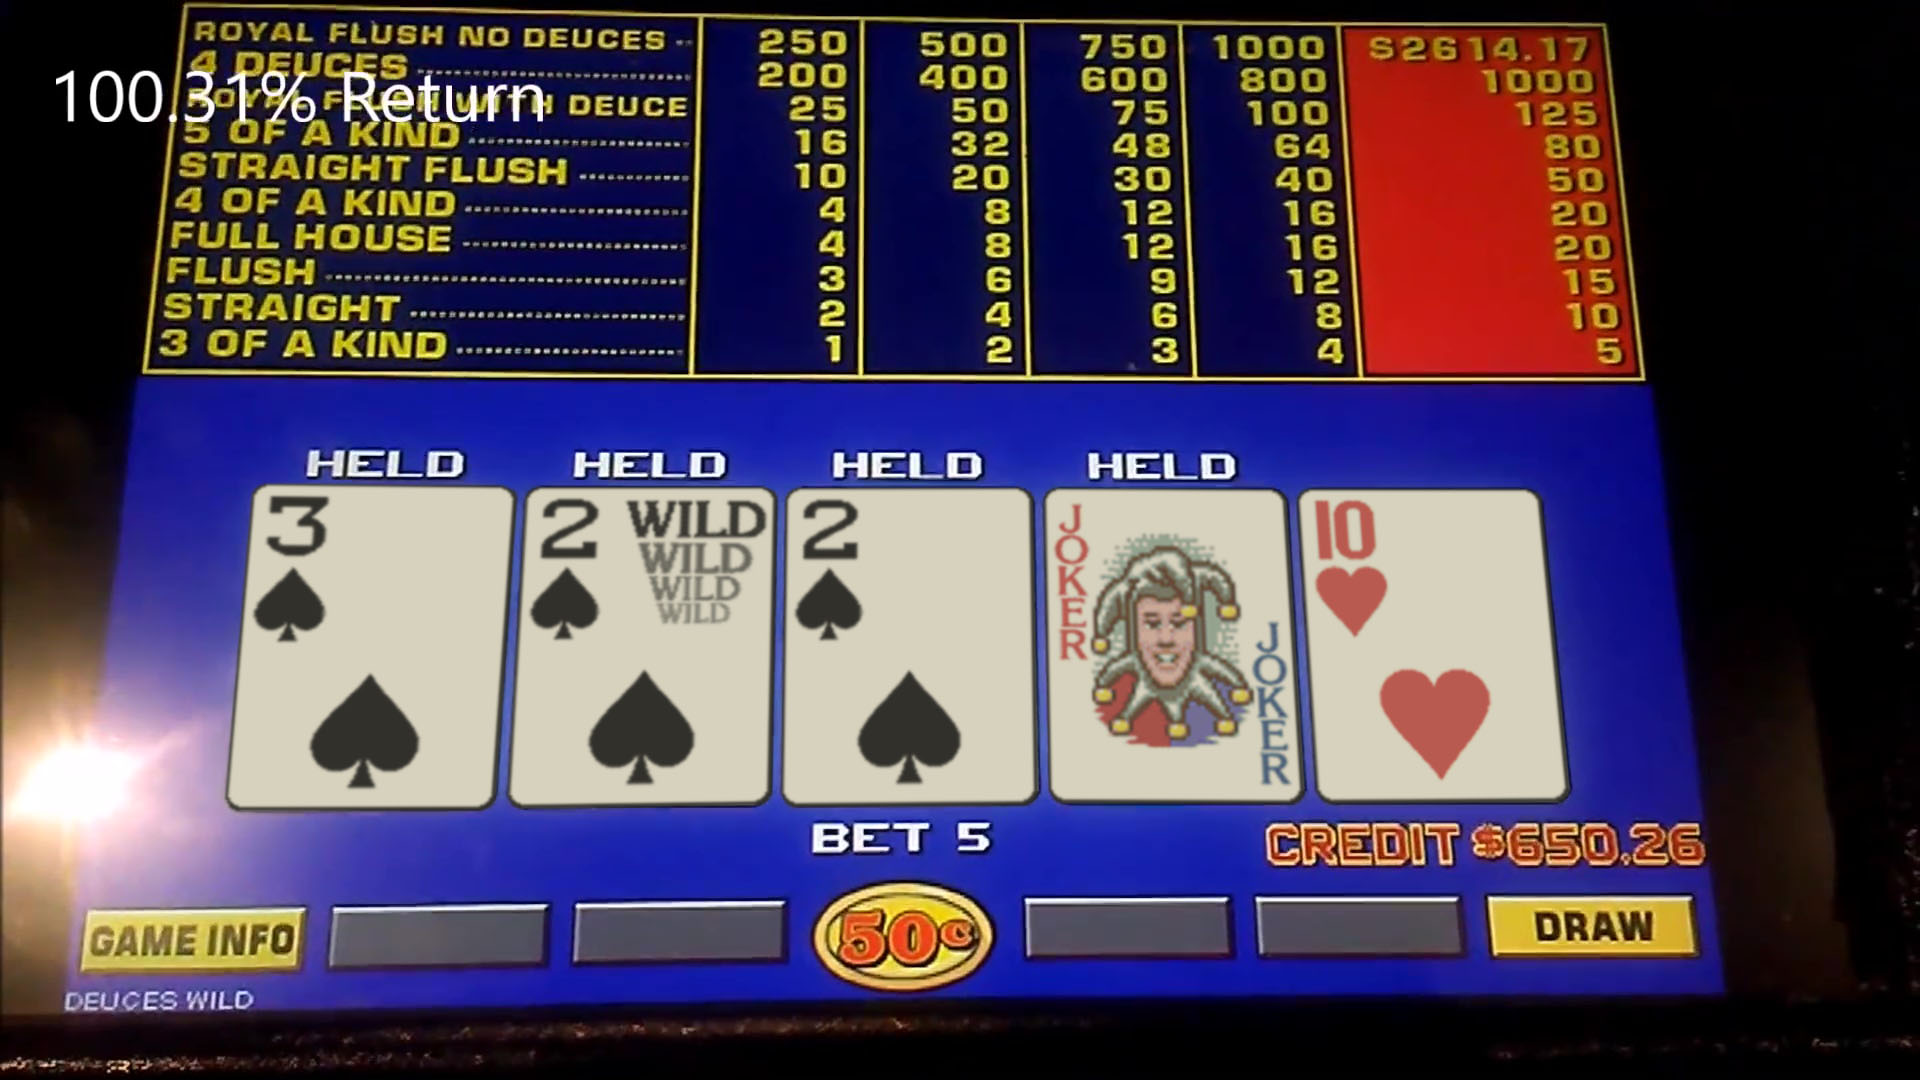HT: (1313, 492, 1539, 640)
S2: (786, 489, 1030, 644)
S2W: (526, 489, 770, 642)
S3: (251, 487, 501, 644)
joker: (1048, 492, 1287, 640)
